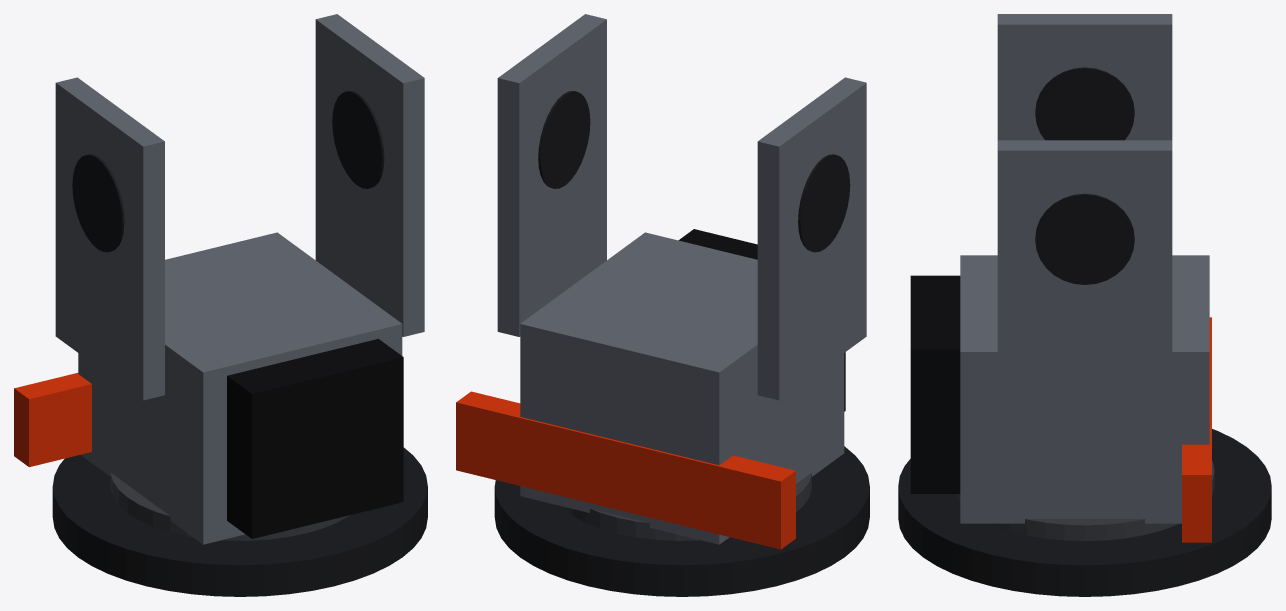
The model's file is yaw_link.dae.
3 renders of one model, left to right at view 1: azimuth 30°, elevation 25°; view 2: azimuth 150°, elevation 25°; view 3: azimuth 270°, elevation 25°, orthographic.
Visible parts, largest first — view 1: yaw_link; view 2: yaw_link; view 3: yaw_link.
Boxes of the visible parts, x1,y1,x2,y2 form: yaw_link: (14, 14, 427, 596); yaw_link: (456, 14, 869, 596); yaw_link: (898, 14, 1271, 596).
Size of the model in its own units: 0.15 by 0.15 by 0.193.
